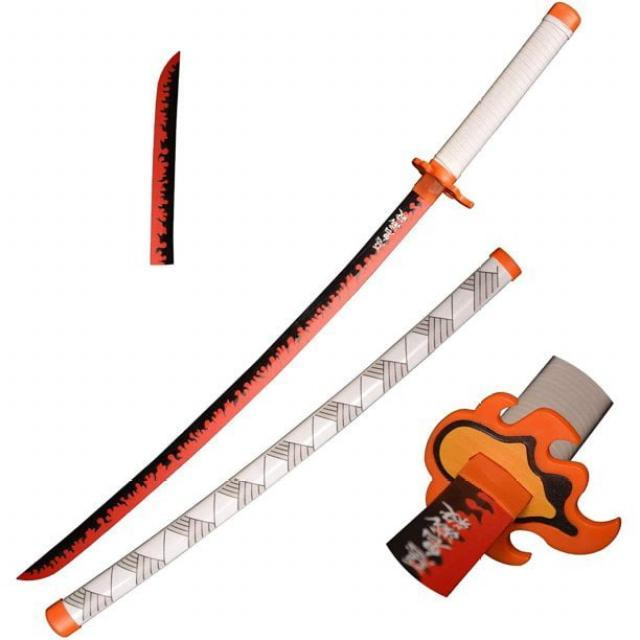katana: (16, 1, 584, 587), (392, 361, 608, 585)
